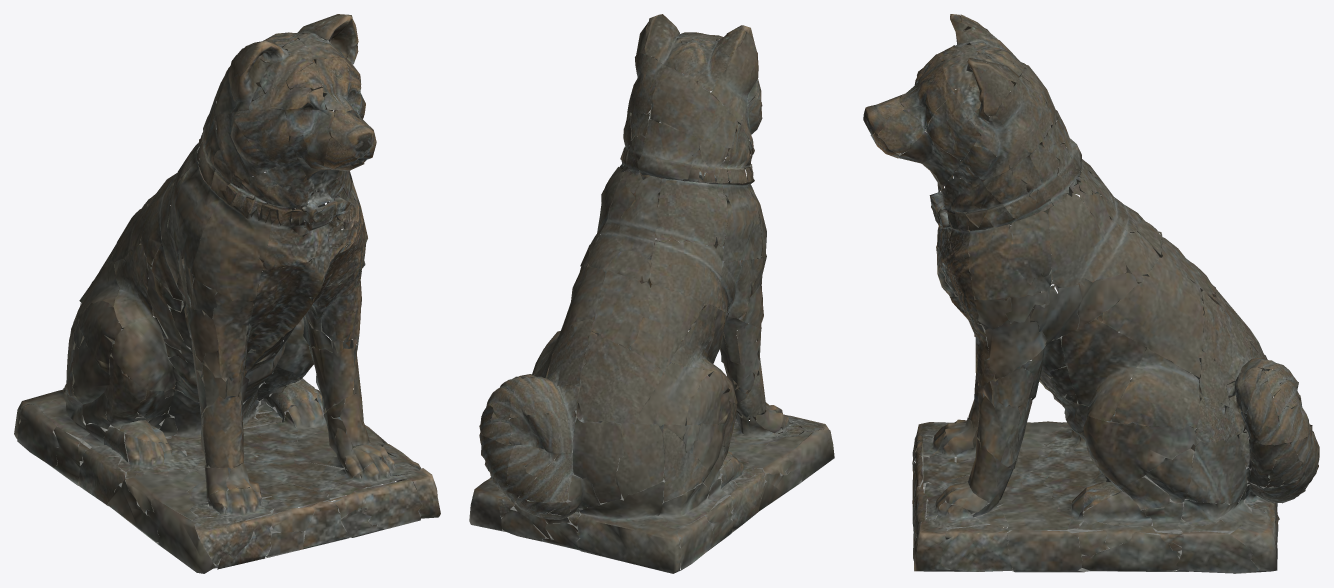
Rendered from hachiko-statue.glb.
3 views of the same model, side by side, from view 1: azimuth 30°, elevation 25°; view 2: azimuth 150°, elevation 25°; view 3: azimuth 270°, elevation 25° (orthographic). The views are drawn at different scales.
Parts seen in each view (by area): view 1: Mesh_0; view 2: Mesh_0; view 3: Mesh_0.
Boxes of the visible parts, bbox=[...] form: Mesh_0: bbox=[14, 14, 440, 573]; Mesh_0: bbox=[469, 14, 834, 573]; Mesh_0: bbox=[863, 14, 1319, 573].
Bounding box in the file's own units: 0.977 × 1.91 × 1.62.
Materials: 1 (1 with a texture image).
